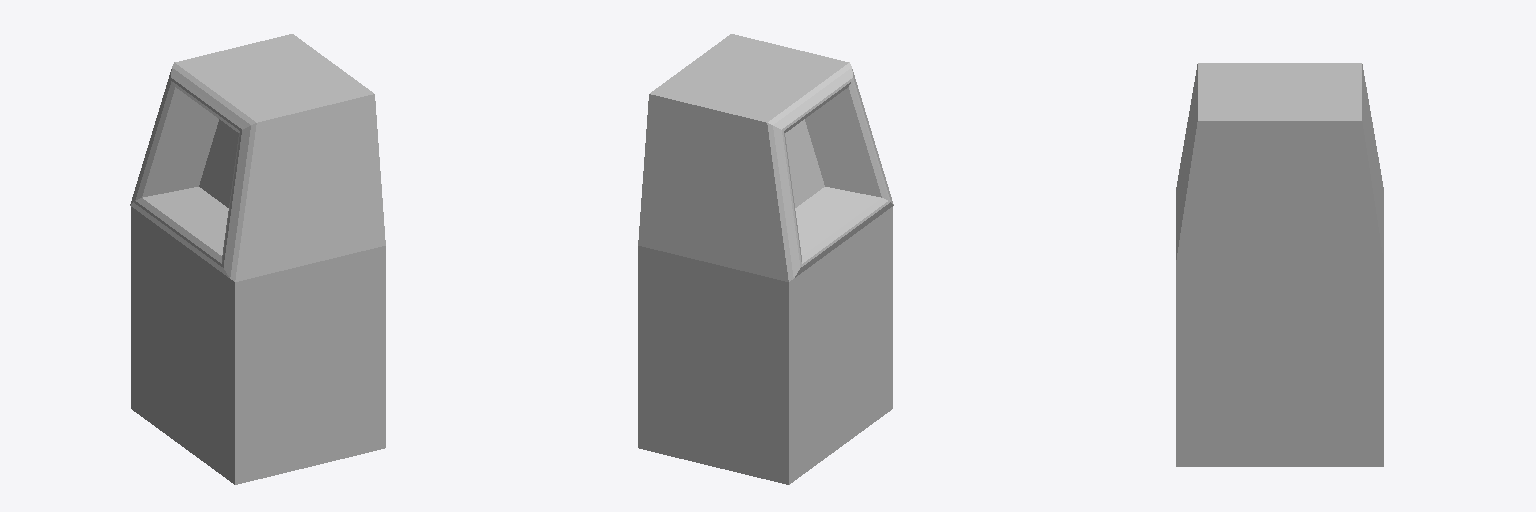
Rendered from console.obj.
3 views of the same model, side by side, from view 1: azimuth 30°, elevation 25°; view 2: azimuth 150°, elevation 25°; view 3: azimuth 270°, elevation 25° (orthographic).
Bounding box in the file's own units: 1.72 × 3.67 × 2.